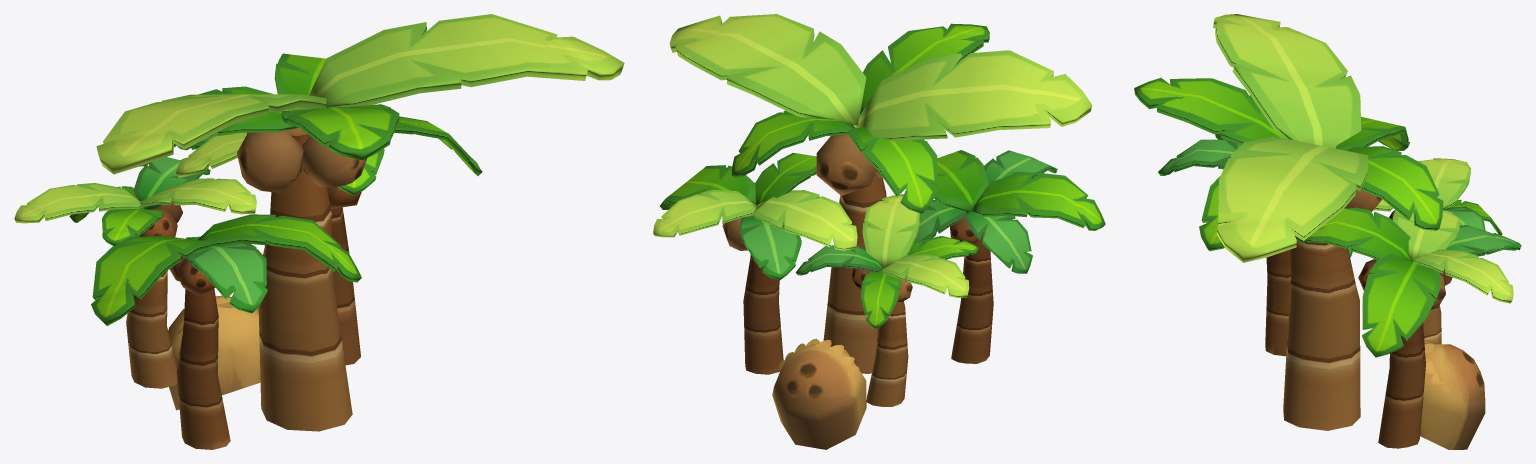
Rendered from SpiceIslandsOdysseyStatue.fbx.
The picture shows the model from 3 angles, left to right: view 1: azimuth 30°, elevation 25°; view 2: azimuth 150°, elevation 25°; view 3: azimuth 270°, elevation 25°; orthographic projection. The views are drawn at different scales.
Parts seen in each view (by area): view 1: SpiceIslandOdysseyStatue; view 2: SpiceIslandOdysseyStatue; view 3: SpiceIslandOdysseyStatue.
Part boxes in pixels (bbox=[...]): SpiceIslandOdysseyStatue: bbox=[14, 14, 624, 449]; SpiceIslandOdysseyStatue: bbox=[653, 14, 1105, 449]; SpiceIslandOdysseyStatue: bbox=[1134, 14, 1521, 449].
Bounding box in the file's own units: 25.17 × 19.17 × 18.52.
Materials: 1 (1 with a texture image).
